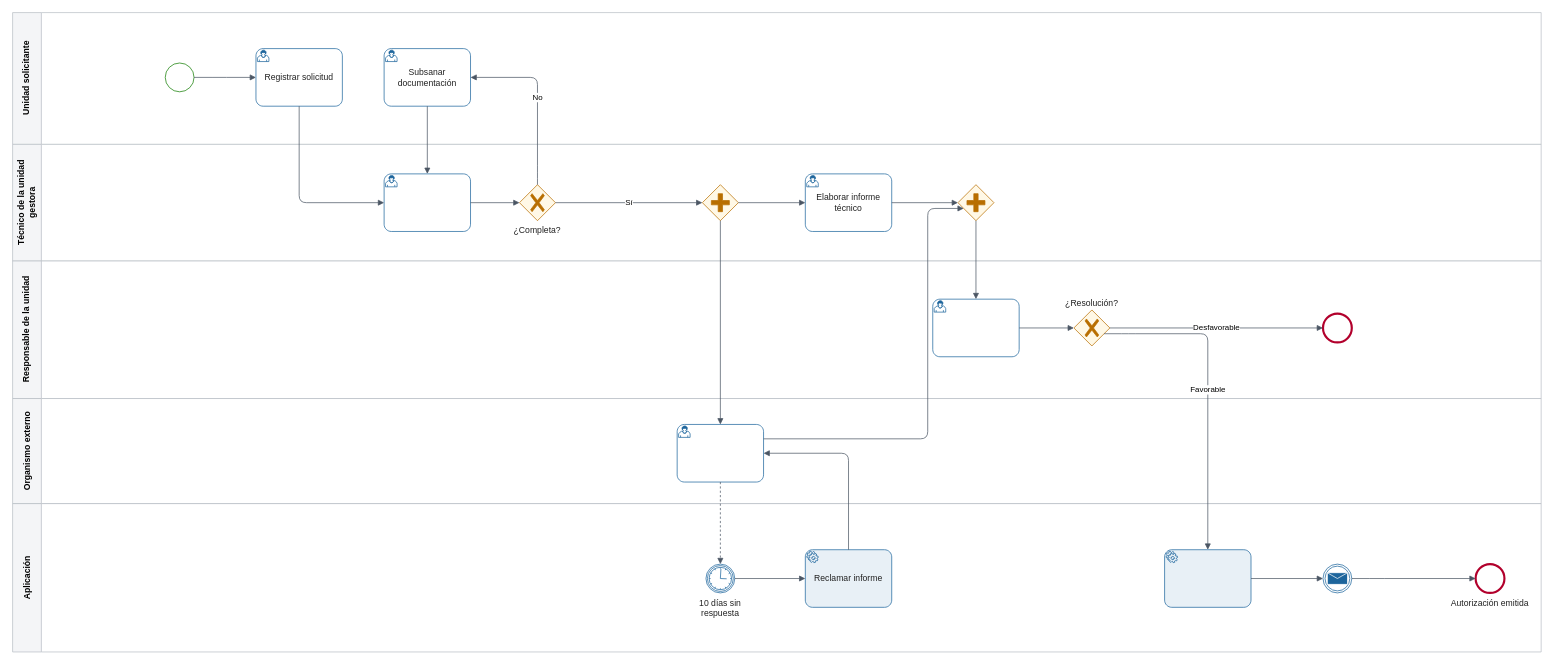
The diagram is 1554 pixels wide and 665 high, and some of its shapes have lost their labels. Each missing label, with the centre of its shape:
"Aviso a la unidad solicitante" goes at pixel 1337 578.
"Emitir informe preceptivo" goes at pixel 720 453.
"Generar autorización" goes at pixel 1207 578.
"Necesidad de autorización" goes at pixel 179 77.
"Resolver solicitud" goes at pixel 975 327.
"Revisar documentación" goes at pixel 427 202.
"Solicitud denegada" goes at pixel 1337 327.
